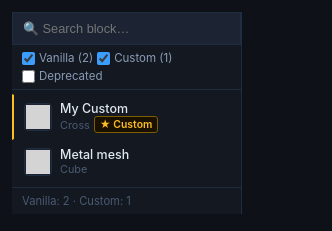
Test: Sidebar › filters by search, custom/vanilla/deprecated toggles and shows empty state
The image size is (332, 231).
Step 1. Type "metal" into the field with placeholder "🔍 Search block…" → [126, 28], box left=12, top=12, right=241, bottom=45
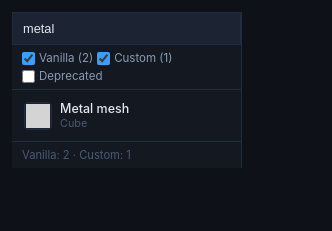
Expected: the text "Metal mesh" is shown, left=60, top=101, right=129, bottom=116
Expected: the button "My Custom" is gone
Step 2. Click the checkbox labelled "Vanilla (2)" → [28, 58], box left=22, top=52, right=35, bottom=64
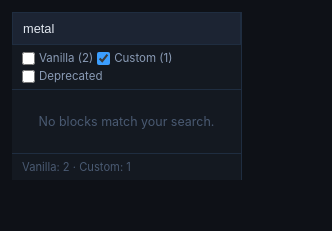
Expected: the text "No blocks match your search." is shown, left=39, top=114, right=214, bottom=129
Step 3. Click the checkbox labelled "Vanilla (2)" → [28, 58], box left=22, top=52, right=35, bottom=64
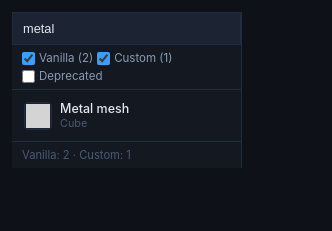
Step 4. Replace the text in the field with placeholder "🔍 Search block…" with "old" → [126, 28], box left=12, top=12, right=241, bottom=45
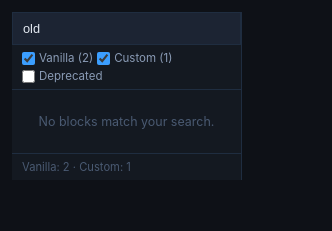
Step 5. Click the checkbox labelled "Deprecated" → [28, 76], box left=22, top=70, right=35, bottom=82
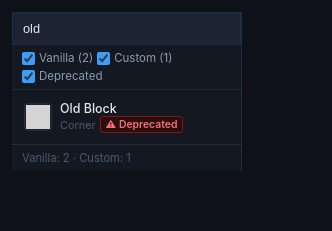
Expected: the text "Old Block" is shown, left=60, top=101, right=117, bottom=116
Expected: the text "⚠ Deprecated" is shown, left=100, top=116, right=183, bottom=133
